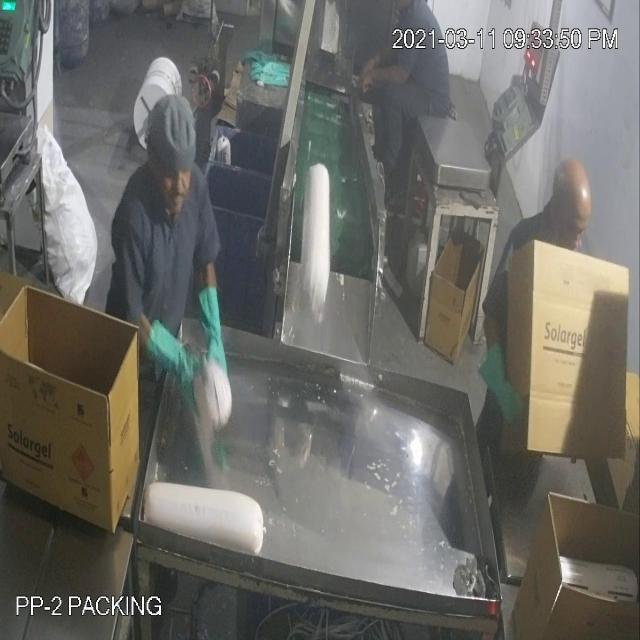No_Gloves: (47, 64, 502, 384)
